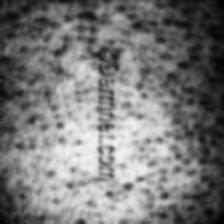Non-Cancerous Skin Condition: (0, 7, 90, 113), (149, 60, 224, 174), (0, 190, 211, 224)
